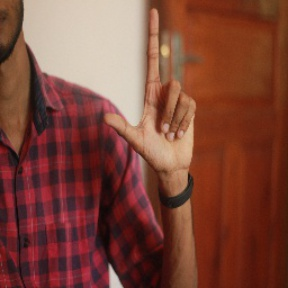L: (100, 7, 202, 159)
